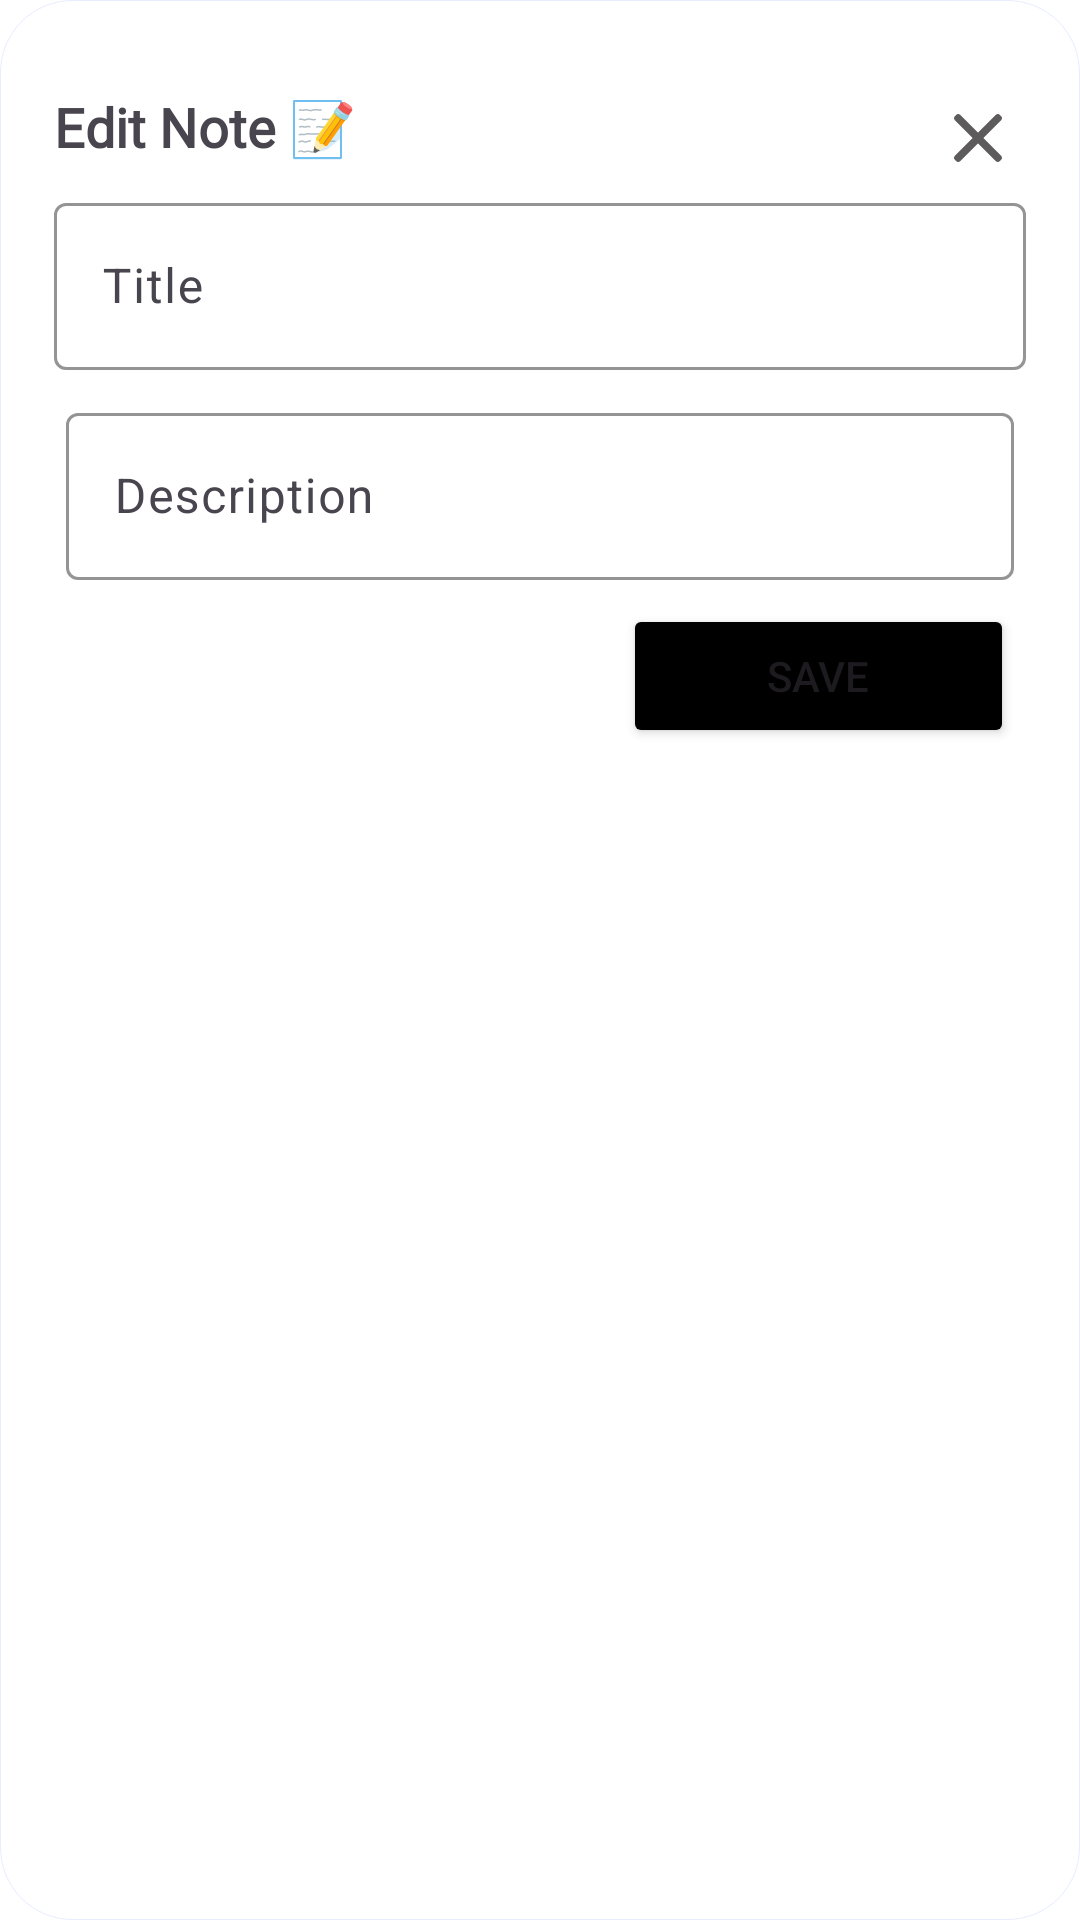

Icon click points for this 1080×1920 phone screenshot, format point (x, y):
cancel close: point (978, 138)
